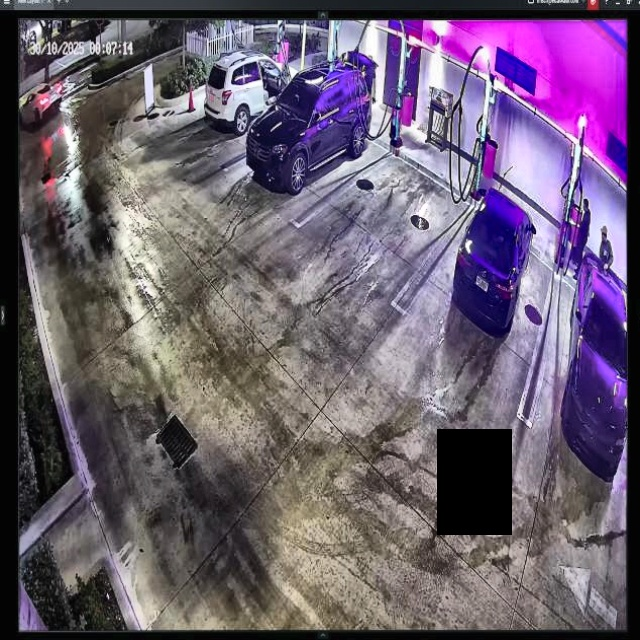Car: (245, 56, 375, 193), (452, 190, 536, 335)
